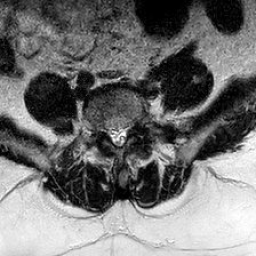CCS_normal: (115, 118, 122, 154)
LFS_stenosis: (130, 109, 138, 134)
LLS_normal: (122, 117, 130, 149)
RFS_severe_stenosis: (99, 116, 107, 140)
RLS_normal: (107, 117, 115, 150)
